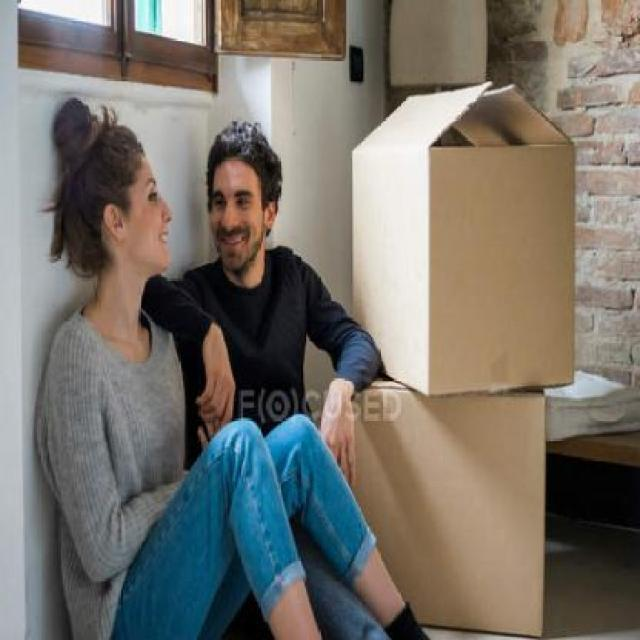box: (346, 85, 574, 398), (336, 377, 549, 640)
